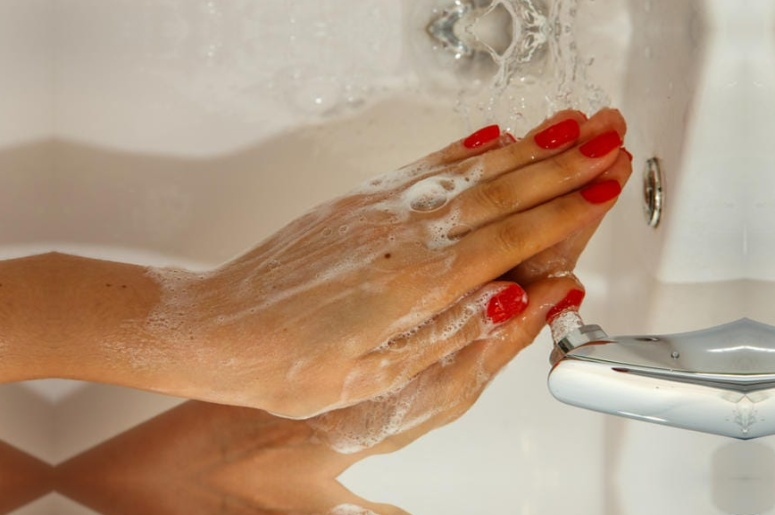washing hand: (183, 84, 697, 443)
